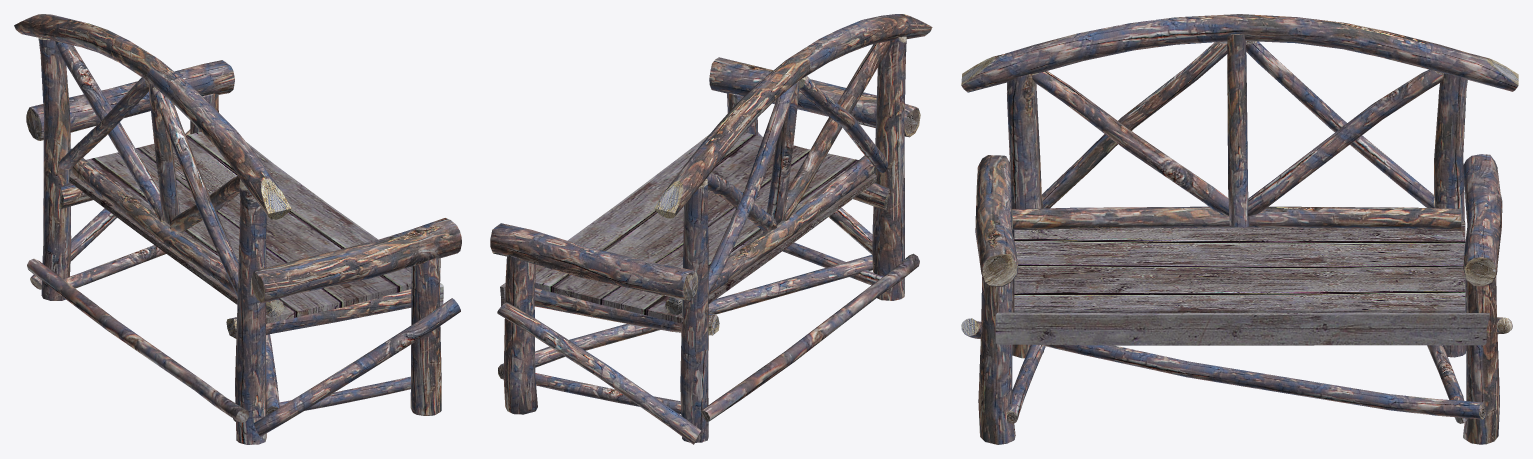
The model's file is BenchSeat.FBX.
The picture shows the model from 3 angles, left to right: view 1: azimuth 30°, elevation 25°; view 2: azimuth 150°, elevation 25°; view 3: azimuth 270°, elevation 25°; orthographic projection. The views are drawn at different scales.
Parts seen in each view (by area): view 1: fz; view 2: fz; view 3: fz.
Part boxes in pixels (x1=…): fz: x1=14, y1=14, x2=461, y2=444; fz: x1=490, y1=14, x2=932, y2=444; fz: x1=961, y1=14, x2=1518, y2=444.
Size of the model in its own units: 26.83 by 36.97 by 55.55.
